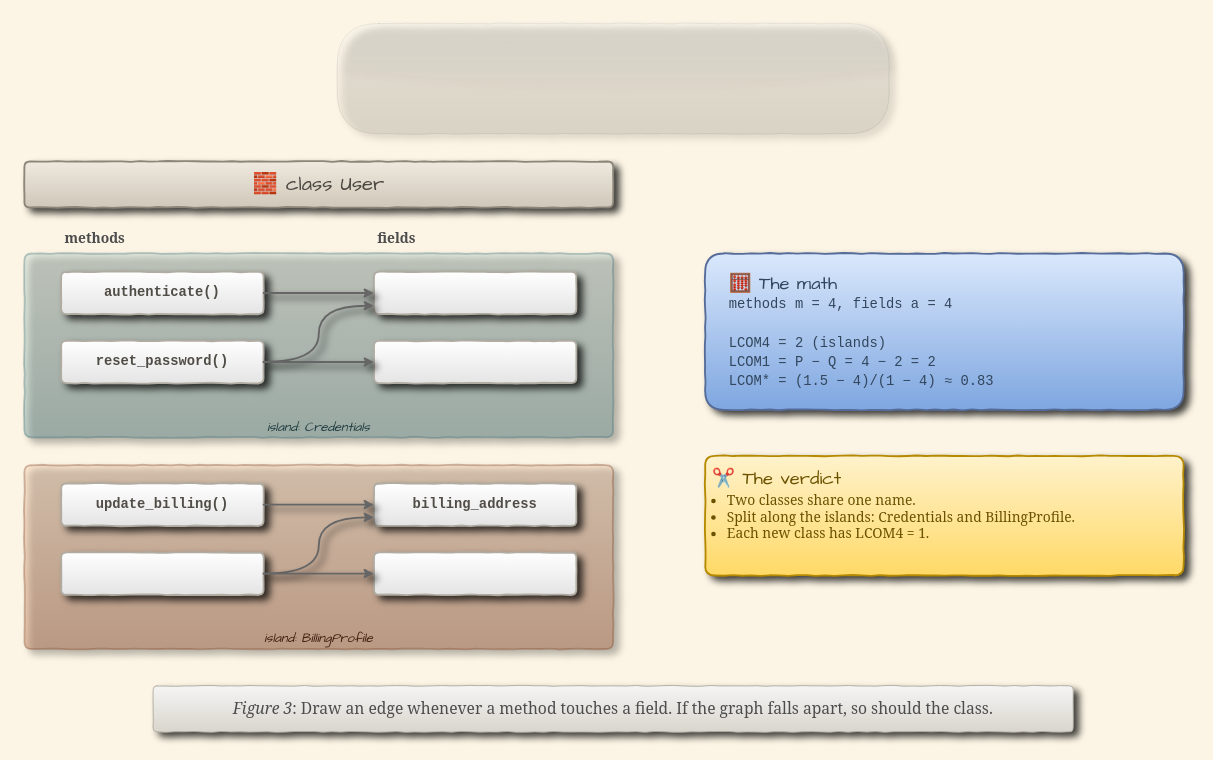
Some shapes in this 1213 by 760 pixel diagram are drawn without their labels. Here are the shapes that lost their labels. From the top down, the centre of each, then its label:
At (615,80): "Lack of Cohesion LCOM4: count the islands by Steven Miers".
At (477,295): "password_hash".
At (477,364): "email".
At (164,575): "charge()".
At (477,575): "card_token".
